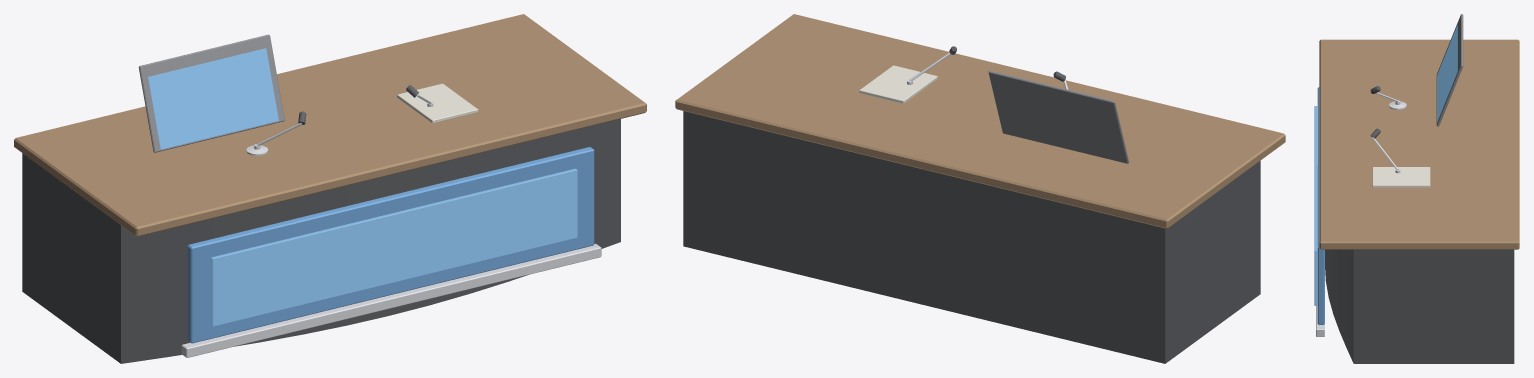
Rendered from 35488_News_Desk_with_a_Monitor_Inset__TV_Studio_and_Broadcast_Gallery_.glb.
3 renders of one model, left to right at view 1: azimuth 30°, elevation 25°; view 2: azimuth 150°, elevation 25°; view 3: azimuth 270°, elevation 25°, orthographic. The views are drawn at different scales.
Visible parts, largest first — view 1: news-desk-with-monitor-inset; view 2: news-desk-with-monitor-inset; view 3: news-desk-with-monitor-inset.
Part boxes in pixels (bbox=[...]): news-desk-with-monitor-inset: bbox=[14, 14, 646, 363]; news-desk-with-monitor-inset: bbox=[675, 14, 1285, 363]; news-desk-with-monitor-inset: bbox=[1314, 14, 1519, 363].
Bounding box in the file's own units: 2.66 × 1.13 × 1.14.
